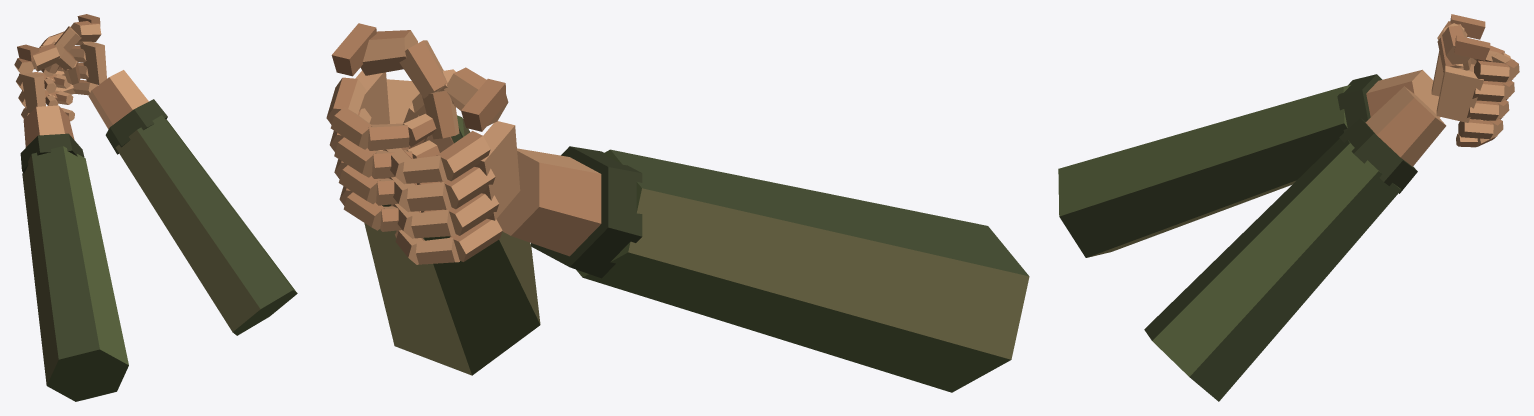
File: maos_pistol_ct.glb
The picture shows the model from 3 angles, left to right: view 1: azimuth 30°, elevation 25°; view 2: azimuth 150°, elevation 25°; view 3: azimuth 270°, elevation 25°; orthographic projection. The views are drawn at different scales.
Parts seen in each view (by area): view 1: MaosFP; view 2: MaosFP; view 3: MaosFP.
Boxes of the visible parts, x1,y1,x2,y2 form: MaosFP: (14,14,297,401); MaosFP: (326,23,1029,392); MaosFP: (1058,14,1519,401).
Size of the model in its own units: 0.4271 by 0.3719 by 0.4782.
